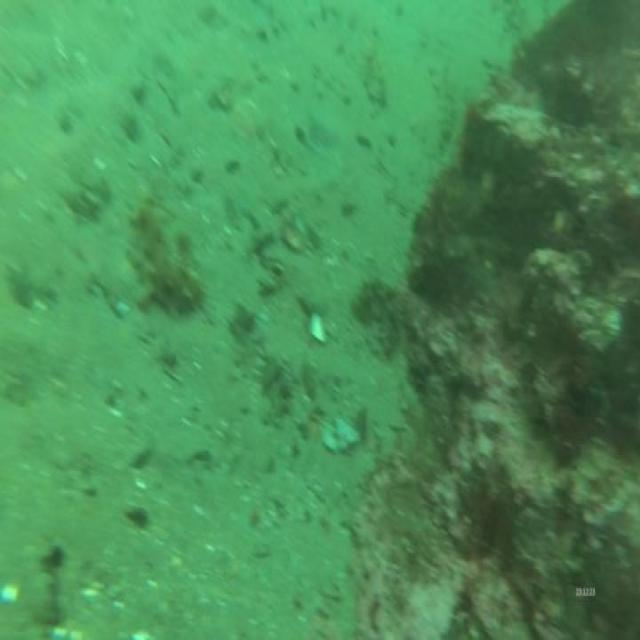holothurian: (129, 194, 203, 320), (356, 272, 402, 360)
